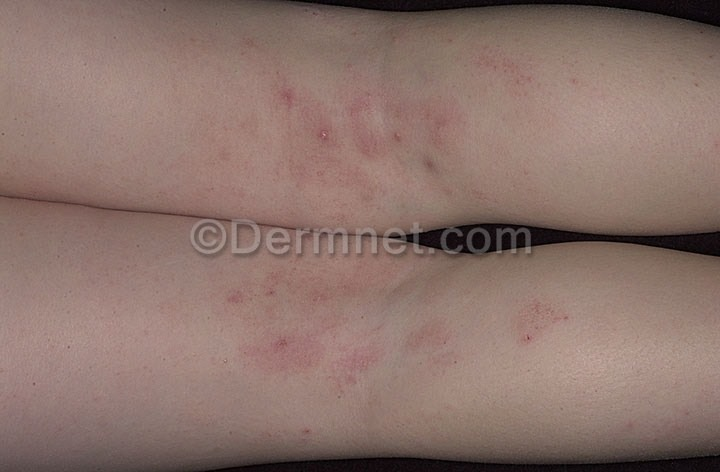Eczema: (182, 8, 611, 221), (207, 251, 578, 415)
